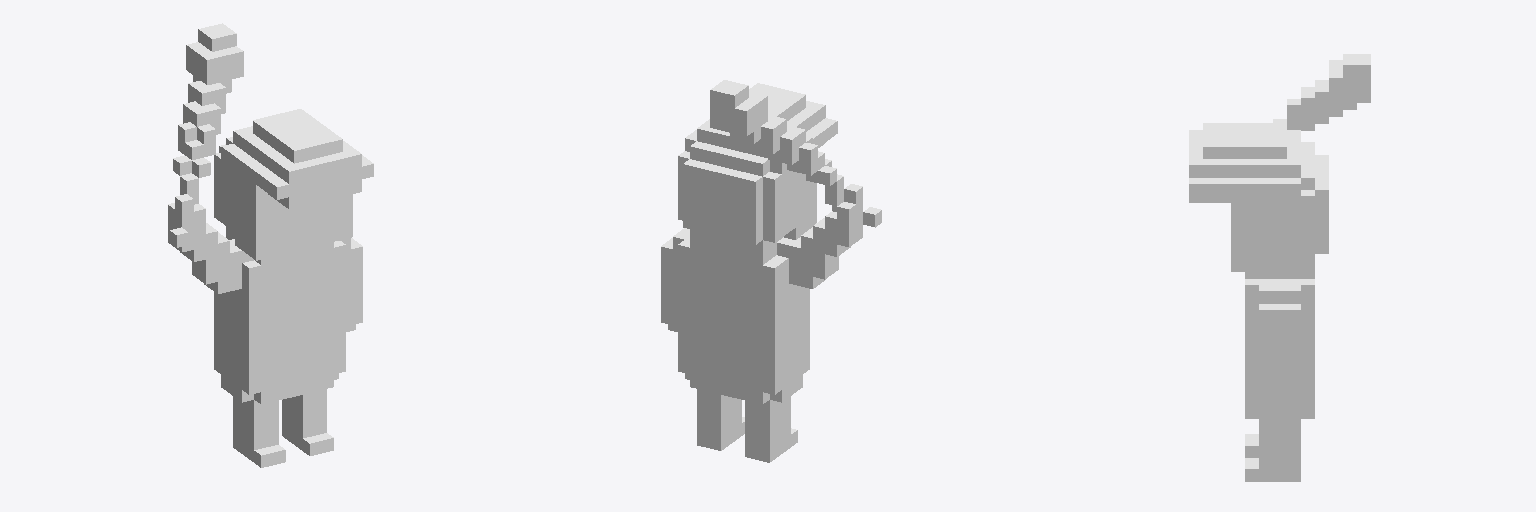
The model's file is Badboy_Bat_1.obj.
3 renders of one model, left to right at view 1: azimuth 30°, elevation 25°; view 2: azimuth 150°, elevation 25°; view 3: azimuth 270°, elevation 25°, orthographic.
Parts seen in each view (by area): view 1: object 1; view 2: object 1; view 3: object 1.
Boxes of the visible parts, <box> form: object 1: <box>168,23,373,467</box>; object 1: <box>661,80,881,462</box>; object 1: <box>1189,54,1370,481</box>.
Bounding box in the file's own units: 1.6 × 3.1 × 1.3.